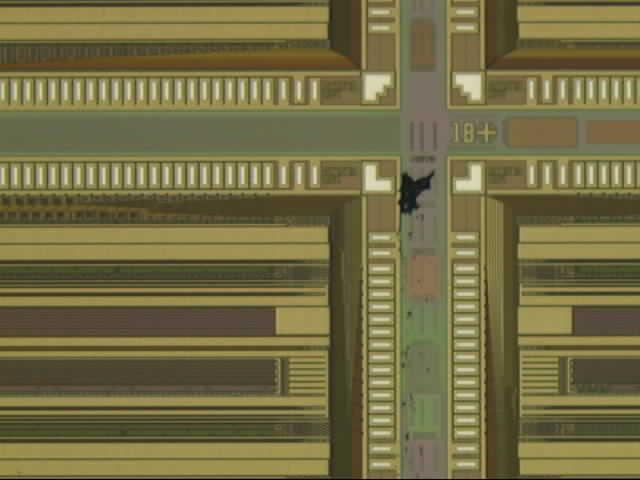PARTICLE: (390, 161, 446, 217)
